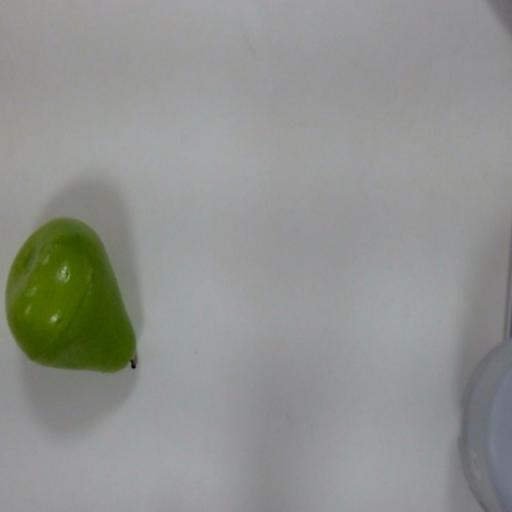Unripe: (4, 207, 148, 396)
